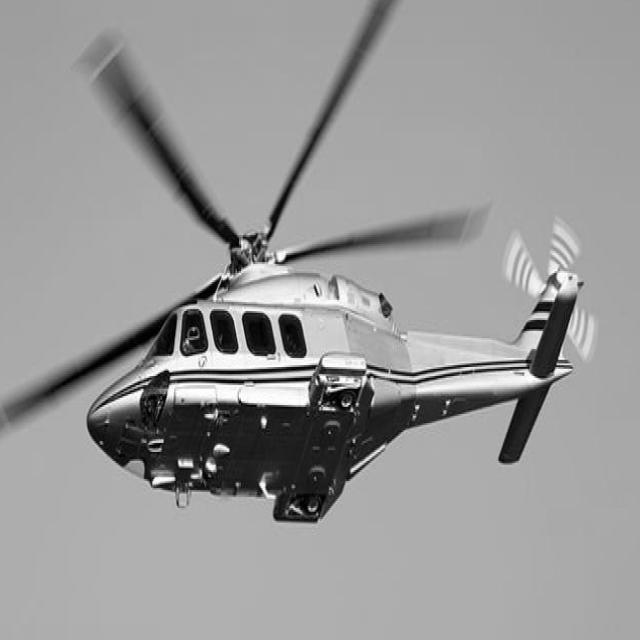helicopter: (1, 1, 601, 523)
